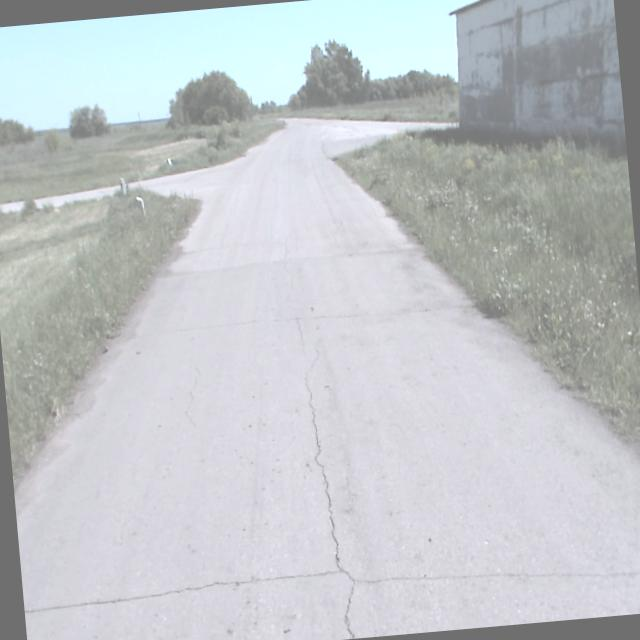road: (16, 117, 640, 640), (33, 185, 119, 207), (0, 200, 23, 211)
